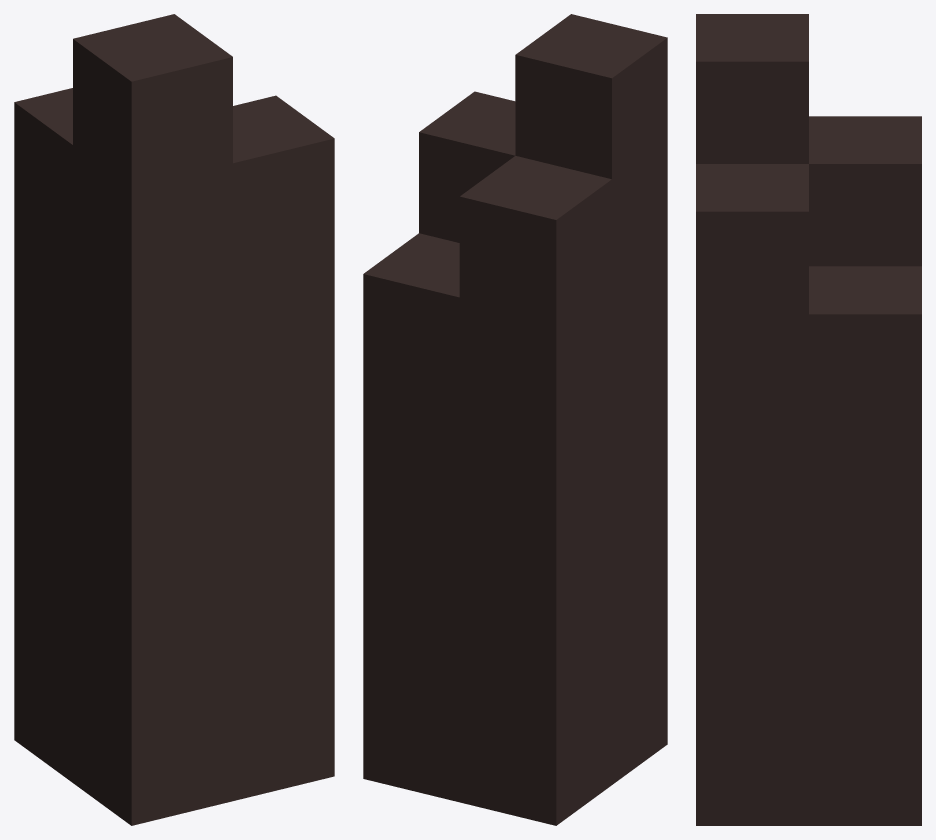
Rendered from fox__leg_fr.obj.
3 views of the same model, side by side, from view 1: azimuth 30°, elevation 25°; view 2: azimuth 150°, elevation 25°; view 3: azimuth 270°, elevation 25° (orthographic). The views are drawn at different scales.
Parts seen in each view (by area): view 1: fox__leg_fr; view 2: fox__leg_fr; view 3: fox__leg_fr.
Boxes of the visible parts, box(x1,y1,x2,y2) form: fox__leg_fr: box(14, 14, 334, 825); fox__leg_fr: box(363, 14, 667, 825); fox__leg_fr: box(696, 14, 921, 825).
Size of the model in its own units: 0.2 by 0.7 by 0.2.
Materials: 1 (1 with a texture image).
